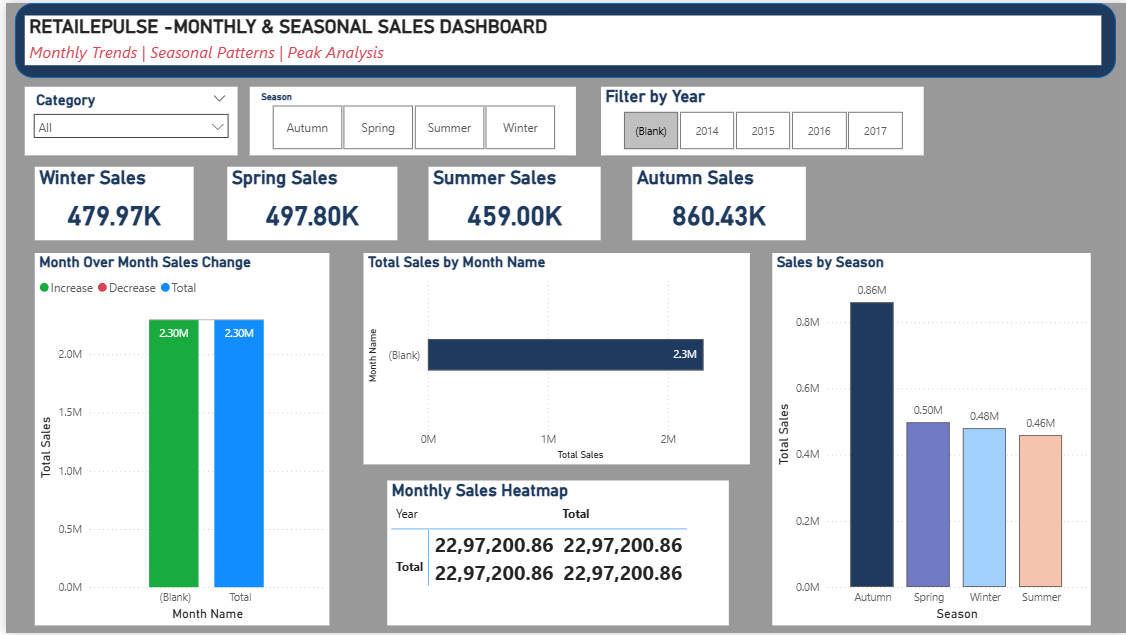

The dashboard page shown, as its layout file describes it:
{"tool":"powerbi","page":{"name":"Seasonal Sales Dashboard","canvas":[1280,720],"ordinal":5},"visuals":[{"type":"shape","box":[10,0,1258.6,85.7],"z":0},{"type":"textbox","title":"RETAILEPULSE -MONTHLY & SEASONAL SALES DASHBOARD","box":[21.4,14.3,1230,57.1],"z":1},{"type":"card","title":"Winter Sales","fields":{"Values":["Date Table.Winter Sales"]},"box":[32.9,187.1,181.4,84.3],"z":2},{"type":"card","title":"Spring Sales","fields":{"Values":["Date Table.Spring Sales"]},"box":[252.9,187.1,194.3,84.3],"z":3},{"type":"card","title":"Summer Sales","fields":{"Values":["Date Table.Summer Sales"]},"box":[482.9,187.1,197.1,84.3],"z":4},{"type":"card","title":"Autumn Sales","fields":{"Values":["Date Table.Autumn Sales"]},"box":[715.7,187.1,198.6,84.3],"z":5},{"type":"pivotTable","title":"Monthly Sales Heatmap","fields":{"Rows":["Date Table.Year"],"Columns":["Date Table.Month Name"],"Values":["Sales Measures.Total Sales"]},"box":[435.7,545.7,390,165.7],"z":6},{"type":"clusteredColumnChart","title":"Sales by Season","fields":{"Category":["Sales Measures.Season"],"Y":["Sales Measures.Total Sales"]},"box":[875.7,285.7,364.3,425.7],"z":7},{"type":"clusteredBarChart","fields":{"Category":["Date Table.Month Name"],"Y":["Sales Measures.Total Sales"]},"box":[408.6,285.7,441.4,241.4],"z":8},{"type":"waterfallChart","title":"Month Over Month Sales Change","fields":{"Category":["Date Table.Month Name"],"Y":["Sales Measures.Total Sales"]},"box":[32.9,285.7,337.1,425.7],"z":9},{"type":"slicer","title":"Filter by Year","fields":{"Values":["Date Table.Year"]},"box":[680,95.7,368.6,78.6],"z":10},{"type":"slicer","fields":{"Values":["Sales Measures.Category"]},"box":[21.4,95.7,242.9,78.6],"z":11},{"type":"slicer","fields":{"Values":["Sales Measures.Season"]},"box":[278.6,95.7,372.9,78.6],"z":12}]}

Visuals, with their boxes in screenshot pixels (x1, y1, x2, y2), scaled from the page's 1280x720 canvas onto the 1126x635 screenshot:
shape: [9, 0, 1116, 76]
"RETAILEPULSE -MONTHLY & SEASONAL SALES DASHBOARD" textbox: [19, 13, 1101, 63]
"Winter Sales" card: [29, 165, 189, 239]
"Spring Sales" card: [222, 165, 393, 239]
"Summer Sales" card: [425, 165, 598, 239]
"Autumn Sales" card: [630, 165, 804, 239]
"Monthly Sales Heatmap" pivotTable: [383, 481, 726, 627]
"Sales by Season" clusteredColumnChart: [770, 252, 1091, 627]
clusteredBarChart - Date Table.Month Name x Sales Measures.Total Sales: [359, 252, 748, 465]
"Month Over Month Sales Change" waterfallChart: [29, 252, 325, 627]
"Filter by Year" slicer: [598, 84, 922, 154]
slicer - Sales Measures.Category: [19, 84, 233, 154]
slicer - Sales Measures.Season: [245, 84, 573, 154]
